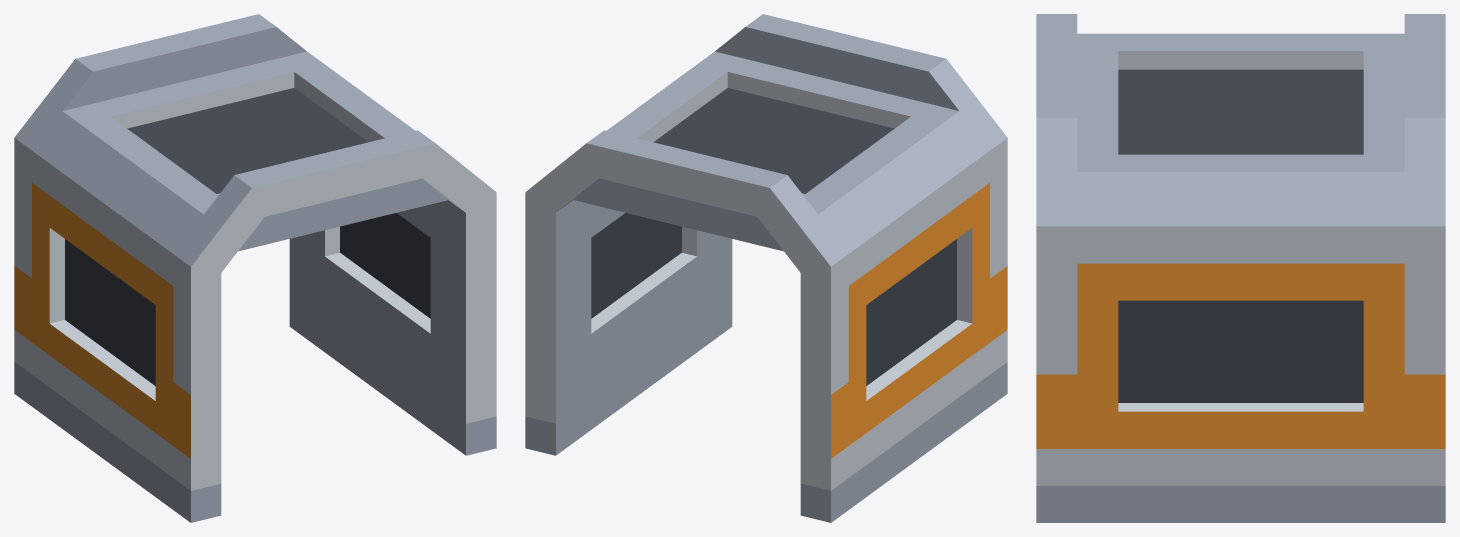
The model's file is corridor_windowClosed.fbx.
The picture shows the model from 3 angles, left to right: view 1: azimuth 30°, elevation 25°; view 2: azimuth 150°, elevation 25°; view 3: azimuth 270°, elevation 25°; orthographic projection. The views are drawn at different scales.
Parts seen in each view (by area): view 1: corridor_windowClosed; view 2: corridor_windowClosed; view 3: corridor_windowClosed.
Part boxes in pixels (x1,y1,x2,y2): corridor_windowClosed: (14,14,496,522); corridor_windowClosed: (525,14,1007,522); corridor_windowClosed: (1036,14,1445,522).
Size of the model in its own units: 10 by 10 by 10.
